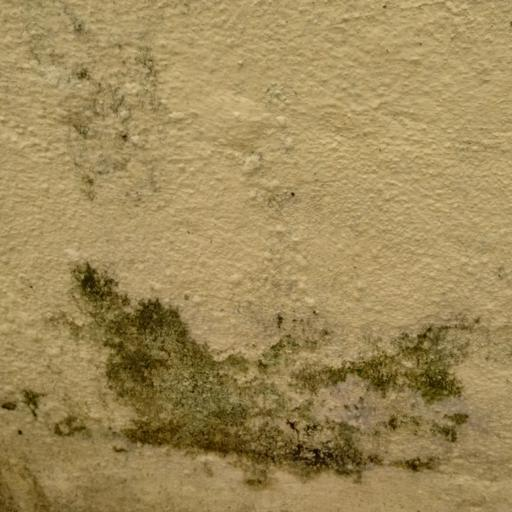algae: (64, 249, 486, 491)
